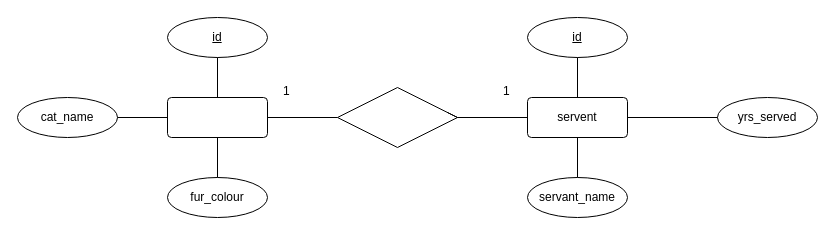
This 835x235 diagram has some shape labels left out. Here are the shapes that lost their labels. From the top down, the box of each, then its label:
(166, 96, 268, 138): cats
(336, 86, 458, 148): has a
